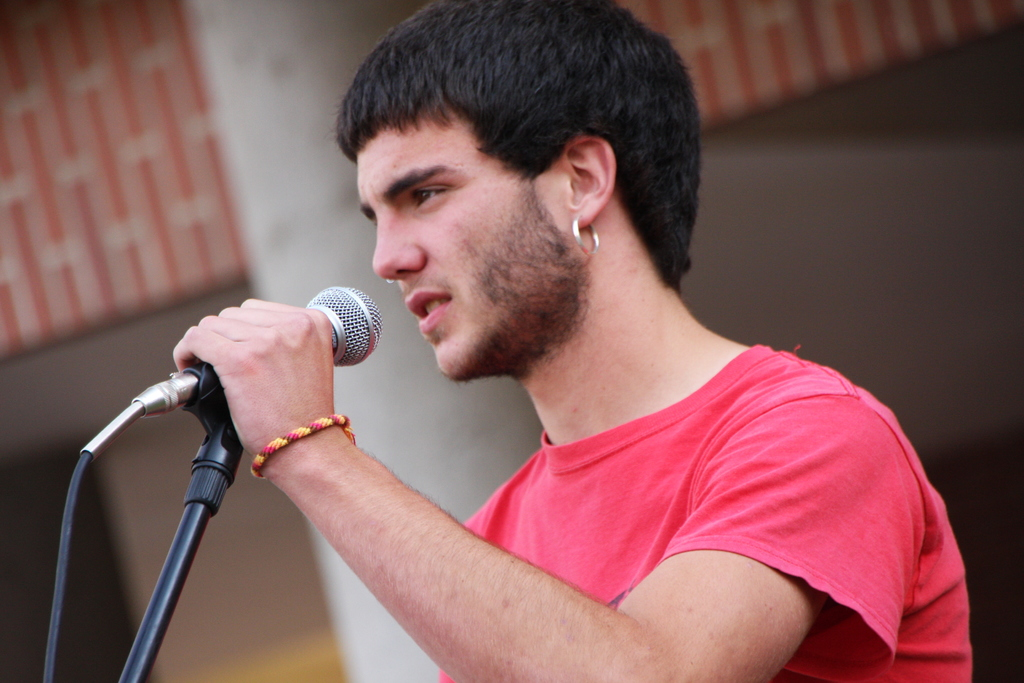Human_hand: (163, 307, 346, 470)
